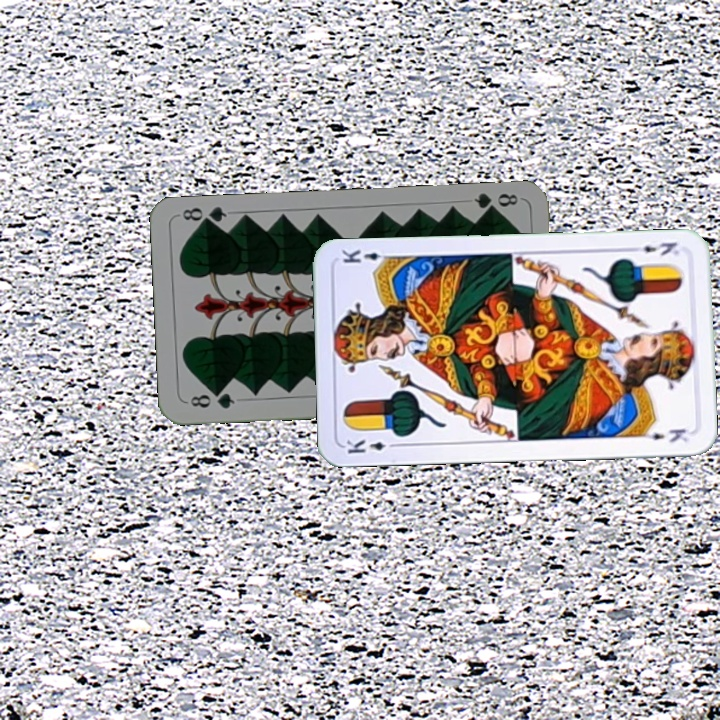EK: (342, 436, 401, 456), (627, 238, 682, 258)
G8: (470, 189, 521, 216), (183, 388, 237, 412)
